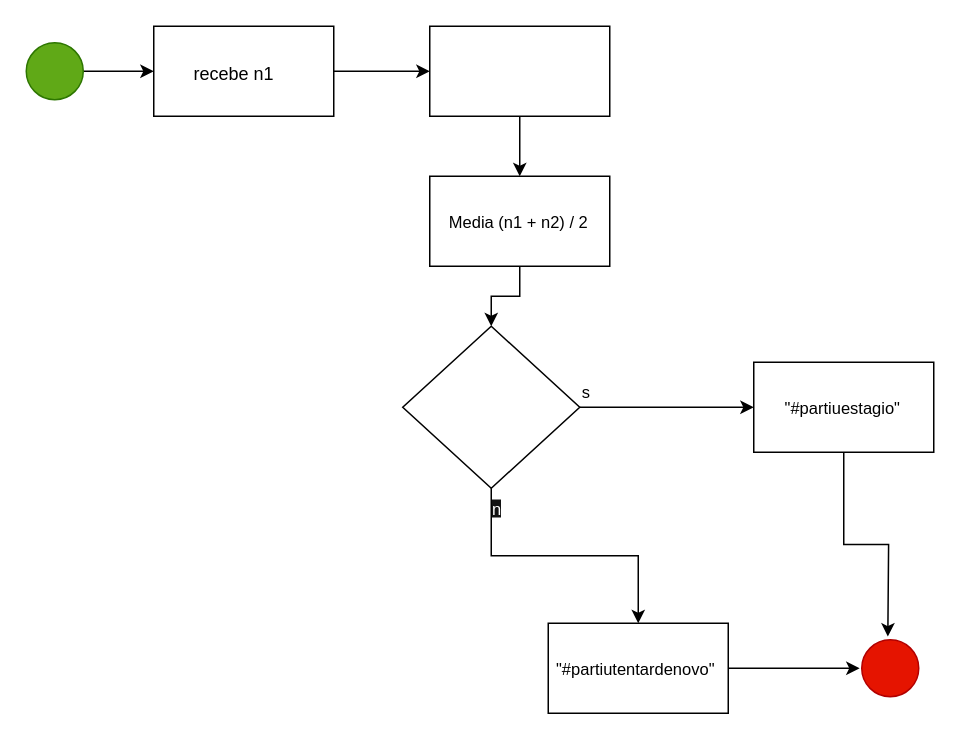
This 960x740 diagram has some shape labels left out. The centre of each missing label's shape, as x and y in pixels:
"Media >= 5" goes at point 490,406.
"Recebe n2" goes at point 519,70.
